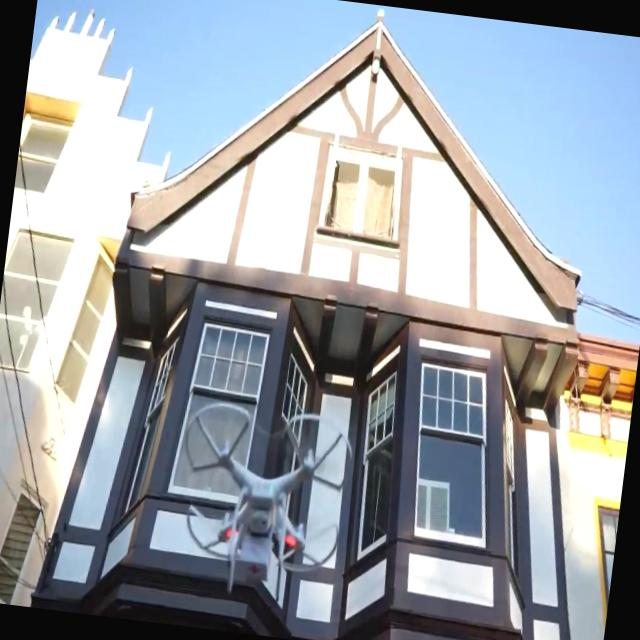drone: (164, 394, 358, 606)
